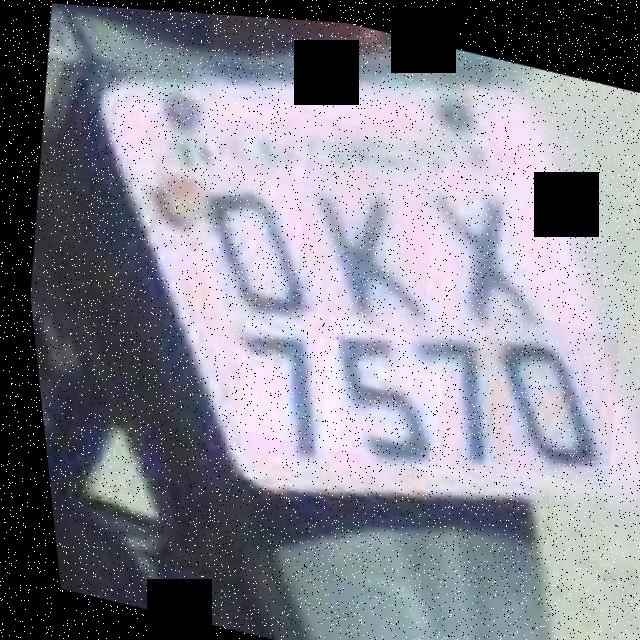0: (453, 298, 625, 482)
5: (301, 311, 447, 468)
7: (384, 309, 524, 461), (219, 315, 347, 449)
K: (276, 154, 442, 334)
X: (393, 153, 556, 332)
